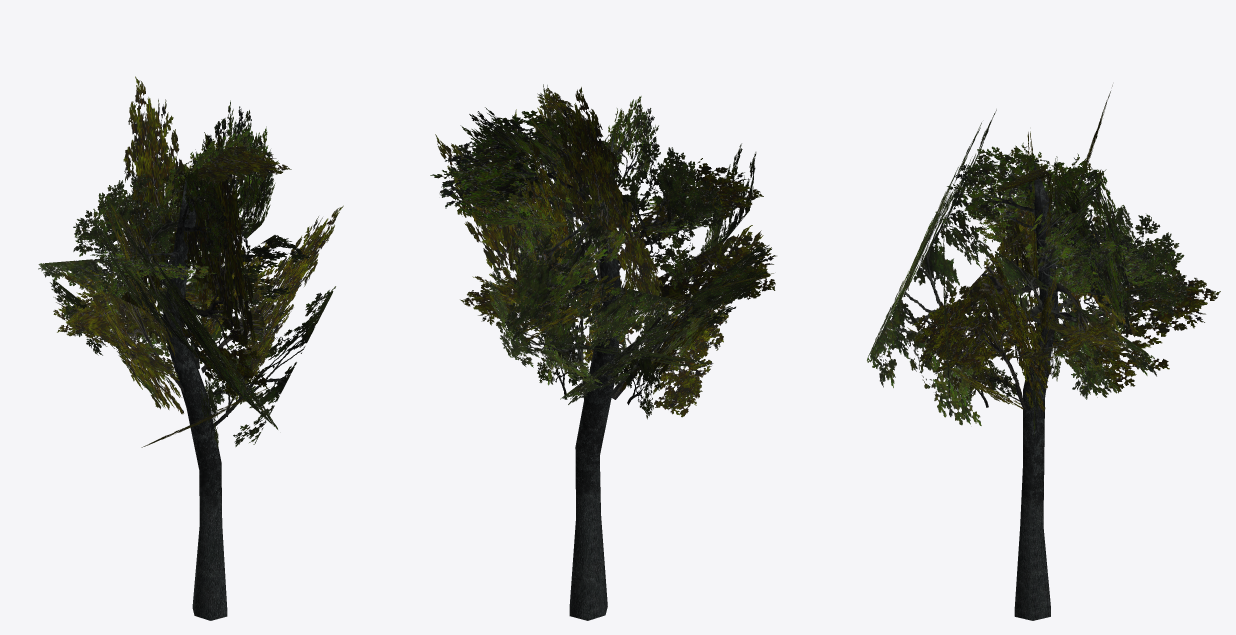
File: tree3.obj
3 renders of one model, left to right at view 1: azimuth 30°, elevation 25°; view 2: azimuth 150°, elevation 25°; view 3: azimuth 270°, elevation 25°, orthographic. The views are drawn at different scales.
Parts seen in each view (by area): view 1: studio.tree_gshaded_ref.mesh_4.001, studio.tree_gshaded_ref.mesh_5.001, studio.tree_gshaded_ref.mesh_3.001, studio.tree_gshaded_ref.mesh_2.001, studio.tree_gshaded_ref.mesh_0.001, studio.tree_gshaded_ref.mesh_1.001; view 2: studio.tree_gshaded_ref.mesh_4.001, studio.tree_gshaded_ref.mesh_5.001, studio.tree_gshaded_ref.mesh_3.001, studio.tree_gshaded_ref.mesh_2.001, studio.tree_gshaded_ref.mesh_0.001, studio.tree_gshaded_ref.mesh_1.001; view 3: studio.tree_gshaded_ref.mesh_4.001, studio.tree_gshaded_ref.mesh_5.001, studio.tree_gshaded_ref.mesh_3.001, studio.tree_gshaded_ref.mesh_2.001, studio.tree_gshaded_ref.mesh_0.001, studio.tree_gshaded_ref.mesh_1.001.
Part boxes in pixels (x1,y1,x2,y2): studio.tree_gshaded_ref.mesh_4.001: [53, 76, 343, 447]; studio.tree_gshaded_ref.mesh_5.001: [38, 173, 335, 447]; studio.tree_gshaded_ref.mesh_3.001: [90, 100, 278, 280]; studio.tree_gshaded_ref.mesh_2.001: [163, 179, 221, 470]; studio.tree_gshaded_ref.mesh_0.001: [192, 526, 227, 620]; studio.tree_gshaded_ref.mesh_1.001: [199, 463, 222, 534]; studio.tree_gshaded_ref.mesh_4.001: [435, 87, 776, 417]; studio.tree_gshaded_ref.mesh_5.001: [488, 84, 771, 419]; studio.tree_gshaded_ref.mesh_3.001: [430, 96, 725, 308]; studio.tree_gshaded_ref.mesh_2.001: [575, 136, 620, 457]; studio.tree_gshaded_ref.mesh_0.001: [569, 516, 607, 620]; studio.tree_gshaded_ref.mesh_1.001: [575, 447, 600, 522]; studio.tree_gshaded_ref.mesh_4.001: [907, 85, 1220, 411]; studio.tree_gshaded_ref.mesh_5.001: [867, 109, 1190, 436]; studio.tree_gshaded_ref.mesh_3.001: [947, 142, 1157, 338]; studio.tree_gshaded_ref.mesh_2.001: [1023, 165, 1058, 471]; studio.tree_gshaded_ref.mesh_0.001: [1014, 526, 1050, 620]; studio.tree_gshaded_ref.mesh_1.001: [1020, 466, 1044, 532].
Bounding box in the file's own units: 5.67 × 9.29 × 5.71.
Materials: 6 (6 with a texture image).
